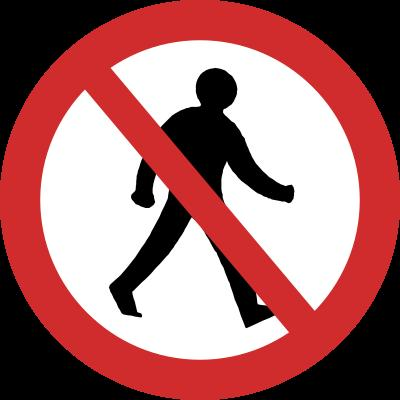Pedestrian Prohibited: (15, 7, 362, 373), (390, 391, 392, 391)
